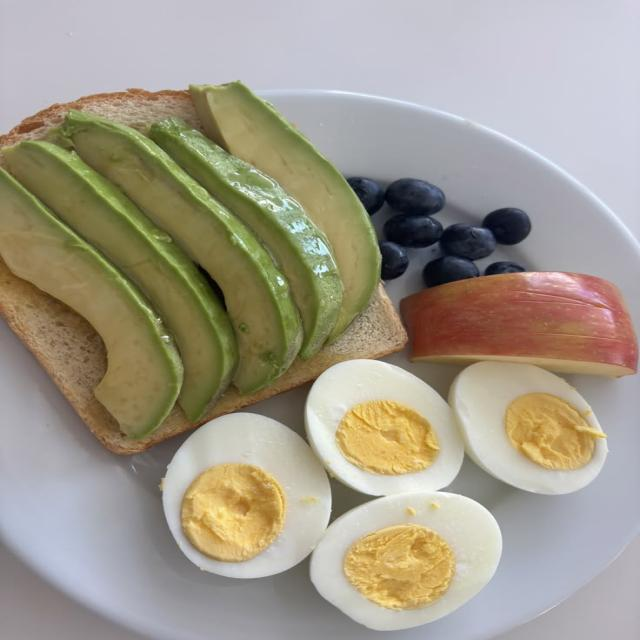sliced_bread: (0, 260, 405, 454), (0, 89, 200, 145)
